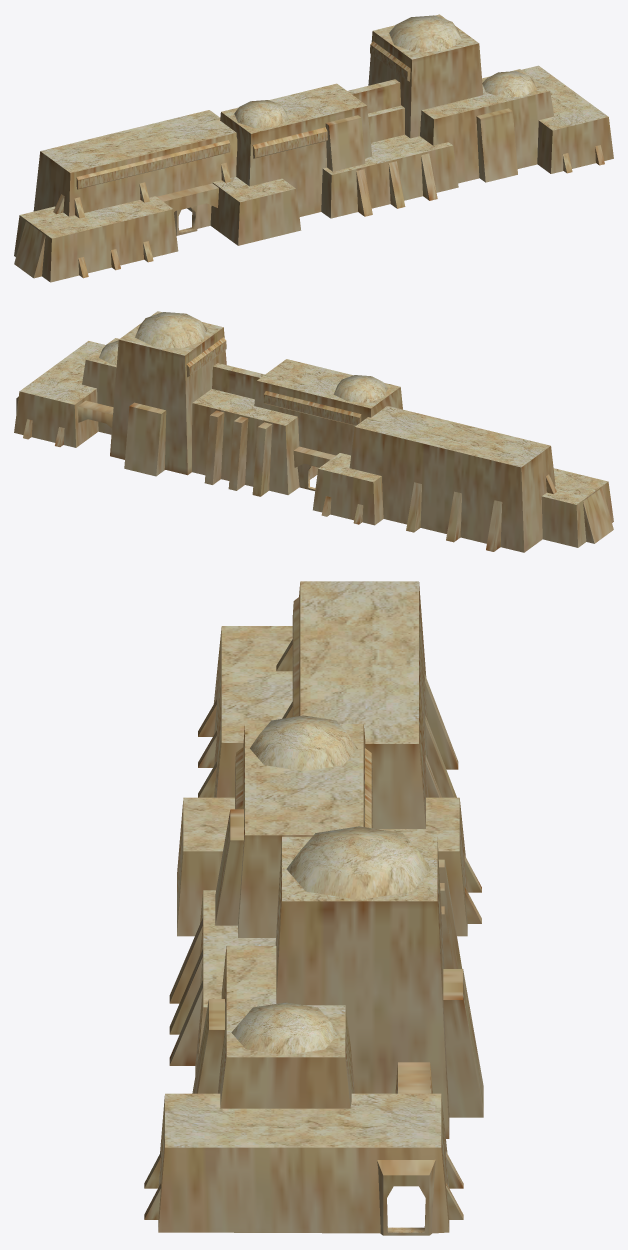
File: thm_tato_block_bldg_64x16_s01_r0_exterior_mesh_r0_l2.fbx
3 renders of one model, top to bottom at view 1: azimuth 30°, elevation 25°; view 2: azimuth 150°, elevation 25°; view 3: azimuth 270°, elevation 25°, orthographic. The views are drawn at different scales.
Visible parts, largest first — view 1: mesh_node; view 2: mesh_node; view 3: mesh_node.
Part boxes in pixels (box(x1,y1,x2,y2)): mesh_node: box(14, 14, 613, 282); mesh_node: box(14, 311, 613, 552); mesh_node: box(144, 581, 483, 1235).
Size of the model in its own units: 69.15 by 15.84 by 18.41.
